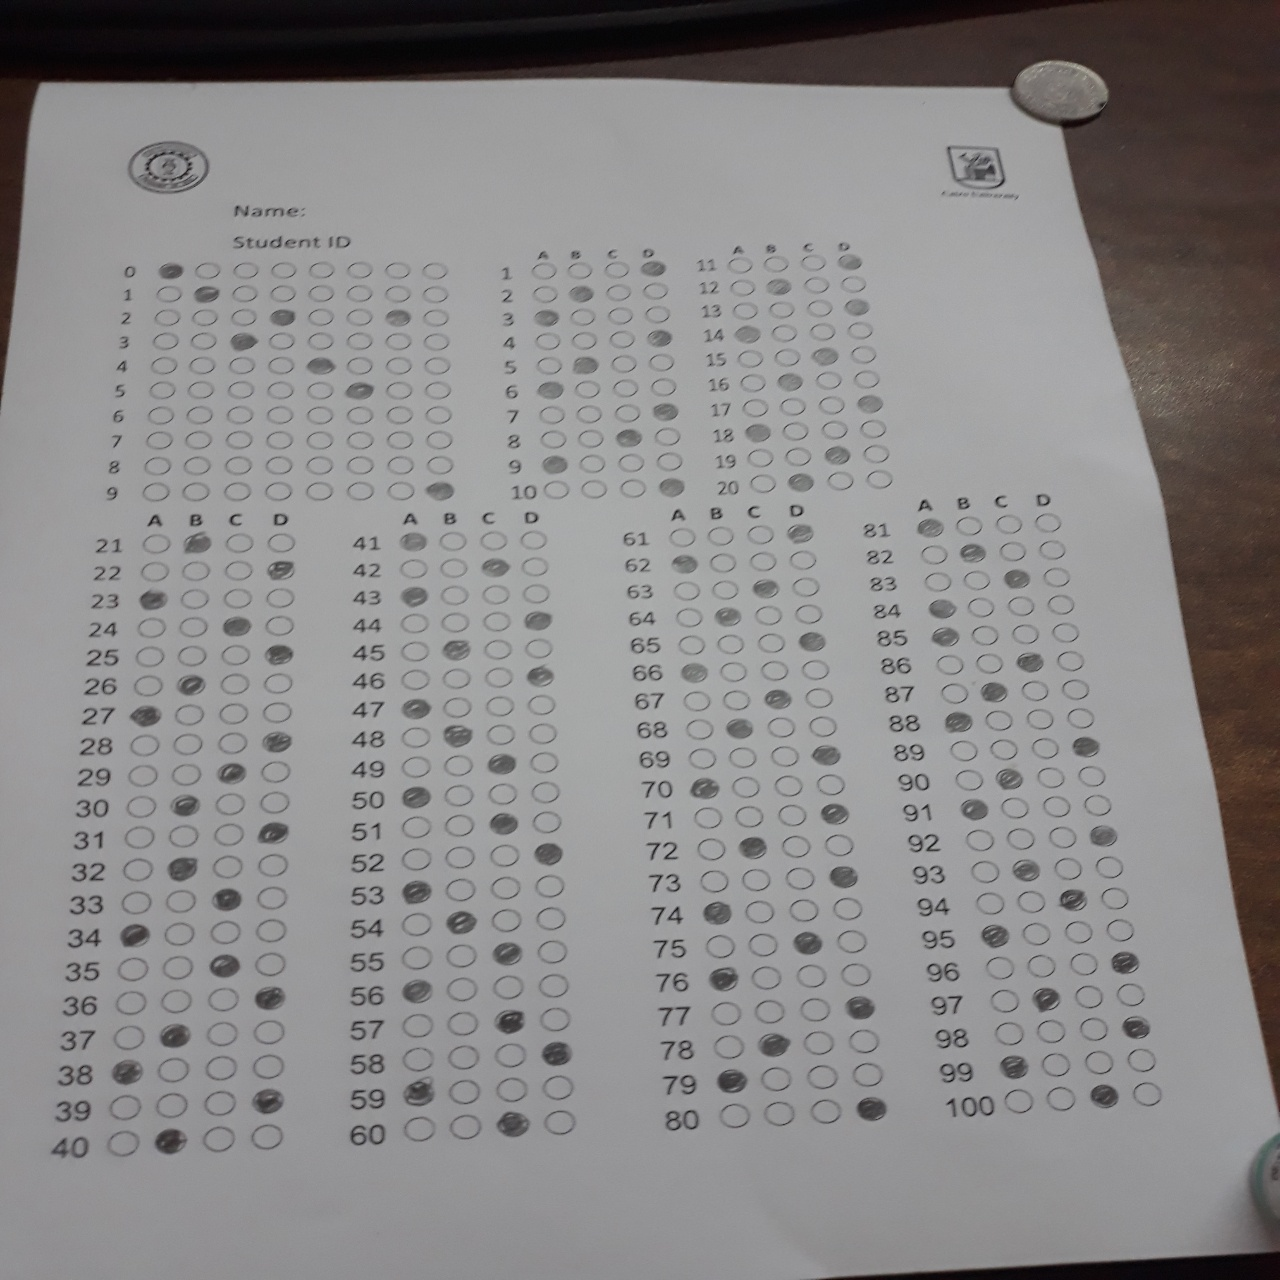not-c: (154, 1057, 192, 1083), (708, 576, 744, 602), (110, 1024, 148, 1050), (248, 1051, 286, 1077), (107, 1095, 144, 1121), (203, 1091, 241, 1116), (200, 1054, 237, 1080), (151, 1091, 189, 1116), (198, 1125, 236, 1150), (248, 1124, 286, 1149), (105, 1131, 142, 1156), (687, 745, 719, 771), (1053, 855, 1083, 880), (1032, 734, 1062, 760), (1024, 952, 1055, 978), (1003, 1087, 1034, 1112), (1133, 1080, 1164, 1105), (706, 523, 736, 549), (747, 550, 777, 576), (789, 577, 819, 602), (802, 685, 832, 710), (772, 772, 803, 798), (790, 896, 821, 921), (713, 1033, 743, 1058), (440, 554, 470, 580), (401, 611, 431, 636), (399, 636, 429, 662), (400, 665, 430, 690), (442, 665, 472, 690), (443, 693, 474, 719), (484, 719, 515, 744), (489, 840, 519, 866), (445, 874, 476, 900), (544, 1074, 574, 1099), (224, 557, 254, 583), (134, 644, 164, 669), (263, 699, 293, 724), (215, 822, 245, 847), (256, 917, 286, 942), (209, 985, 239, 1010), (253, 1017, 284, 1043), (142, 452, 172, 478), (150, 325, 181, 350), (1092, 855, 1124, 879), (1012, 622, 1043, 647), (1041, 1051, 1073, 1076), (816, 772, 847, 797), (699, 869, 730, 893), (740, 867, 771, 892), (401, 813, 433, 838), (537, 939, 568, 964), (139, 531, 171, 556), (265, 585, 297, 610), (128, 731, 159, 756), (166, 823, 198, 847), (121, 890, 152, 914), (345, 479, 377, 503), (181, 428, 215, 450), (302, 455, 336, 477), (636, 279, 670, 301), (934, 651, 964, 676), (1104, 915, 1133, 941), (1036, 1019, 1065, 1044), (758, 629, 788, 655), (676, 632, 706, 658), (753, 964, 782, 989), (532, 809, 561, 835), (444, 813, 474, 839), (403, 911, 433, 937), (542, 1006, 571, 1032), (267, 529, 297, 554), (222, 672, 251, 697), (1067, 704, 1097, 729), (1041, 794, 1071, 818), (1026, 706, 1056, 730), (998, 537, 1028, 561), (965, 594, 995, 619), (971, 622, 1001, 647), (1000, 795, 1030, 819), (965, 829, 995, 853), (924, 570, 954, 594), (1062, 918, 1092, 942), (985, 954, 1015, 979), (1068, 949, 1098, 974), (990, 987, 1021, 1012), (994, 1021, 1024, 1046), (789, 547, 819, 572), (748, 523, 778, 547), (667, 524, 697, 549), (707, 551, 737, 576), (790, 602, 821, 627), (802, 658, 832, 682), (681, 687, 712, 712), (721, 687, 751, 712), (808, 714, 838, 738), (767, 714, 797, 738), (687, 715, 717, 740), (734, 803, 764, 828), (776, 803, 806, 828), (781, 833, 811, 858), (697, 837, 728, 862), (747, 932, 777, 956), (754, 998, 784, 1022), (803, 1029, 833, 1054), (436, 530, 467, 554), (518, 553, 549, 578), (400, 556, 430, 580), (520, 583, 551, 607), (441, 610, 471, 634), (482, 636, 512, 661), (483, 663, 513, 688), (484, 692, 515, 716), (530, 749, 560, 774), (401, 755, 431, 779), (530, 779, 560, 804), (490, 907, 520, 932), (445, 944, 476, 968), (538, 973, 568, 998), (448, 1010, 478, 1035), (449, 1044, 479, 1069), (497, 1076, 527, 1101), (449, 1080, 479, 1104), (406, 1116, 436, 1141), (450, 1115, 481, 1139), (544, 1109, 574, 1133), (179, 558, 210, 583), (223, 585, 253, 610), (263, 613, 293, 638), (263, 670, 293, 695), (217, 701, 247, 726), (176, 702, 206, 727), (129, 762, 159, 787), (259, 789, 290, 813), (163, 956, 193, 981), (116, 989, 147, 1014), (162, 988, 192, 1013), (207, 1021, 238, 1046), (143, 481, 173, 505), (150, 350, 181, 375), (670, 579, 702, 602), (799, 996, 831, 1020), (806, 1065, 838, 1089), (401, 846, 433, 870), (445, 978, 477, 1001), (188, 354, 220, 376), (181, 482, 213, 504), (301, 381, 334, 403), (227, 354, 260, 376), (306, 257, 339, 279), (343, 257, 376, 279), (343, 402, 376, 424), (384, 477, 417, 499), (382, 257, 415, 279), (420, 282, 452, 305), (420, 332, 452, 354), (427, 452, 459, 475), (529, 257, 561, 279), (583, 476, 615, 498), (618, 477, 651, 499), (617, 451, 649, 474), (610, 352, 642, 374), (724, 256, 757, 278), (764, 298, 797, 320), (823, 469, 856, 491), (813, 369, 846, 392), (842, 319, 874, 341), (855, 417, 887, 440), (1078, 762, 1108, 787), (995, 510, 1024, 535), (954, 512, 983, 537), (962, 565, 992, 590), (983, 707, 1013, 731), (955, 768, 985, 792), (949, 737, 979, 762), (975, 890, 1005, 914), (1099, 884, 1129, 908), (1078, 1017, 1108, 1042), (1125, 1047, 1155, 1071), (1085, 1049, 1115, 1074), (1046, 1085, 1075, 1110), (716, 631, 745, 655), (717, 660, 747, 685), (770, 742, 799, 767), (731, 772, 761, 797), (744, 898, 774, 922), (712, 1001, 741, 1026), (852, 1062, 881, 1087), (811, 1098, 840, 1123), (765, 1099, 795, 1124), (440, 581, 469, 606), (444, 753, 474, 777), (445, 782, 475, 806), (445, 844, 475, 869), (533, 872, 563, 897), (403, 945, 433, 969), (492, 973, 522, 998), (404, 1012, 434, 1036), (403, 1047, 433, 1071), (181, 587, 210, 612), (179, 613, 209, 638), (173, 733, 203, 757), (260, 758, 290, 783), (215, 853, 244, 878), (256, 952, 285, 976), (144, 427, 173, 451), (144, 401, 173, 425), (302, 404, 336, 425), (726, 300, 760, 321), (1083, 792, 1114, 816), (1048, 824, 1078, 847), (1007, 594, 1037, 618), (1006, 826, 1036, 850), (971, 858, 1001, 881), (919, 540, 949, 564), (1115, 982, 1145, 1006), (753, 602, 783, 626), (674, 606, 704, 629), (760, 658, 790, 681), (726, 744, 756, 768), (693, 804, 723, 828), (824, 831, 855, 855), (704, 934, 735, 958), (836, 928, 866, 952), (797, 962, 828, 986), (849, 1028, 879, 1051), (760, 1065, 790, 1089), (477, 526, 508, 550), (481, 583, 511, 606), (483, 610, 513, 633), (523, 636, 553, 660), (400, 726, 430, 749), (489, 783, 519, 806), (536, 906, 566, 930), (495, 1043, 525, 1067), (225, 531, 256, 554), (177, 642, 207, 666), (131, 675, 162, 699), (218, 730, 248, 754), (125, 794, 156, 817), (215, 792, 245, 816), (123, 826, 154, 850), (258, 853, 288, 877), (123, 858, 154, 881), (256, 886, 286, 910), (164, 887, 195, 911), (211, 919, 241, 942), (191, 259, 223, 281), (188, 304, 219, 326), (263, 379, 294, 401), (227, 379, 259, 401), (229, 353, 260, 375), (302, 328, 334, 350), (229, 282, 260, 305), (271, 257, 302, 279), (383, 399, 415, 421), (422, 380, 454, 402), (421, 403, 452, 425), (542, 477, 573, 499), (537, 427, 568, 449), (565, 260, 597, 282), (610, 326, 641, 348), (600, 258, 632, 280), (647, 350, 679, 373), (647, 376, 679, 399), (654, 451, 686, 474), (736, 372, 768, 394), (726, 278, 757, 300), (772, 345, 804, 367), (778, 418, 810, 441), (819, 420, 851, 442), (804, 318, 836, 340), (799, 271, 831, 293), (837, 274, 869, 297), (186, 377, 219, 399), (184, 403, 217, 424), (223, 456, 256, 477), (263, 454, 295, 475), (304, 430, 336, 451), (264, 429, 297, 450), (223, 429, 256, 450), (265, 404, 298, 425), (265, 329, 298, 350), (229, 306, 261, 327), (305, 282, 338, 304), (345, 428, 377, 449), (343, 456, 376, 477), (384, 377, 417, 399), (380, 281, 413, 302), (420, 258, 452, 279), (420, 309, 452, 331), (536, 404, 568, 425), (532, 355, 565, 376), (571, 376, 604, 397), (576, 425, 608, 447), (577, 455, 610, 476), (613, 403, 646, 424), (610, 377, 642, 399), (747, 471, 779, 492), (738, 399, 771, 420), (765, 322, 798, 343), (783, 445, 816, 467), (816, 394, 849, 415), (847, 370, 880, 392), (864, 470, 897, 491), (1037, 764, 1067, 788), (1022, 678, 1051, 701), (975, 651, 1005, 674), (989, 737, 1019, 761), (941, 682, 971, 706), (1017, 888, 1047, 912), (1023, 921, 1053, 945), (1073, 983, 1102, 1007), (785, 865, 815, 888), (832, 896, 862, 919), (840, 961, 870, 985), (719, 1103, 748, 1126), (520, 527, 550, 551), (526, 692, 556, 715), (526, 722, 556, 745), (491, 874, 520, 898), (139, 559, 169, 583), (137, 615, 166, 639), (222, 642, 251, 666), (171, 764, 200, 788), (165, 921, 195, 945), (118, 956, 148, 980), (147, 376, 176, 400), (1060, 679, 1090, 701), (188, 329, 219, 350), (179, 455, 211, 476), (222, 481, 253, 502), (263, 479, 294, 501), (302, 479, 334, 501), (224, 404, 256, 425), (302, 306, 334, 327), (231, 260, 263, 281), (272, 281, 304, 302), (341, 306, 373, 327), (342, 329, 374, 350), (343, 356, 375, 377), (387, 452, 418, 474), (383, 427, 415, 448), (384, 352, 416, 373), (383, 329, 415, 350), (421, 354, 452, 375), (423, 429, 455, 450), (533, 328, 565, 349), (533, 282, 565, 304), (571, 401, 602, 422), (608, 304, 640, 325), (644, 305, 675, 326), (653, 427, 685, 448), (744, 445, 776, 467), (737, 346, 769, 367), (779, 395, 811, 416), (803, 295, 835, 316), (799, 248, 831, 270), (847, 345, 879, 366), (862, 444, 893, 465), (154, 282, 186, 302), (346, 282, 379, 302), (760, 256, 792, 275), (1041, 566, 1070, 588), (1046, 592, 1075, 614), (152, 306, 184, 326), (1057, 648, 1085, 670), (1039, 537, 1068, 558), (1053, 622, 1082, 644), (604, 279, 633, 300), (1033, 512, 1063, 532), (152, 306, 183, 326), (568, 307, 598, 326), (571, 331, 600, 349)
taken-c: (404, 1080, 437, 1107), (155, 1126, 188, 1153), (216, 760, 248, 787), (855, 1097, 888, 1123), (708, 965, 741, 990), (758, 1032, 791, 1057), (714, 1067, 747, 1092), (252, 1088, 285, 1114), (252, 987, 285, 1013), (109, 1057, 142, 1083), (158, 1022, 191, 1048), (209, 953, 241, 979), (166, 856, 199, 881), (170, 790, 203, 816), (136, 586, 169, 612), (265, 557, 298, 583), (260, 727, 292, 753), (176, 672, 207, 697), (222, 611, 253, 636), (181, 529, 212, 554), (845, 994, 878, 1019), (118, 921, 151, 946), (210, 887, 243, 912), (256, 818, 288, 843), (132, 701, 165, 726), (263, 642, 295, 667), (1107, 951, 1141, 974), (1058, 890, 1092, 913), (930, 626, 964, 649), (940, 713, 974, 736), (978, 926, 1012, 949), (1032, 988, 1065, 1012), (996, 1053, 1030, 1076), (668, 552, 702, 576), (796, 629, 830, 653), (678, 660, 712, 683), (520, 610, 554, 633), (522, 663, 556, 687), (397, 695, 431, 719), (484, 753, 518, 776), (486, 811, 520, 835), (533, 843, 567, 866), (402, 980, 436, 1003), (542, 1042, 576, 1065), (1073, 735, 1105, 758), (1002, 565, 1035, 588), (995, 765, 1028, 789), (978, 681, 1010, 704), (913, 515, 946, 538), (785, 522, 818, 545), (749, 578, 782, 601), (713, 604, 745, 627), (761, 686, 794, 709), (821, 803, 853, 826), (735, 836, 768, 859), (790, 933, 823, 956), (399, 530, 431, 553), (396, 584, 429, 607), (1085, 825, 1119, 847), (1012, 651, 1046, 673), (955, 540, 989, 563), (927, 599, 961, 621), (956, 798, 990, 821), (1085, 1085, 1119, 1108), (1122, 1016, 1156, 1039), (441, 726, 475, 748), (489, 942, 523, 965), (443, 911, 477, 933), (493, 1010, 527, 1033), (425, 481, 457, 504), (1010, 860, 1043, 883), (721, 716, 754, 738), (809, 744, 842, 767), (688, 777, 721, 799), (826, 865, 859, 887), (478, 554, 511, 577), (440, 639, 472, 661), (400, 784, 433, 806), (401, 880, 434, 903), (498, 1114, 531, 1136), (702, 901, 736, 922), (636, 257, 668, 277), (762, 275, 794, 295), (843, 297, 874, 316), (731, 324, 762, 343), (824, 445, 855, 465), (305, 355, 336, 374), (535, 380, 566, 399), (571, 355, 602, 374), (343, 380, 374, 399), (383, 309, 414, 328), (533, 307, 564, 326), (644, 329, 674, 348), (656, 478, 687, 497), (614, 427, 645, 445), (776, 372, 806, 390), (785, 474, 816, 492), (810, 346, 840, 365), (852, 394, 883, 413), (838, 252, 869, 271), (542, 455, 571, 474), (568, 284, 598, 302), (649, 402, 679, 421), (743, 423, 772, 442), (191, 282, 218, 301), (268, 309, 297, 327), (231, 331, 257, 349), (157, 260, 183, 278)
